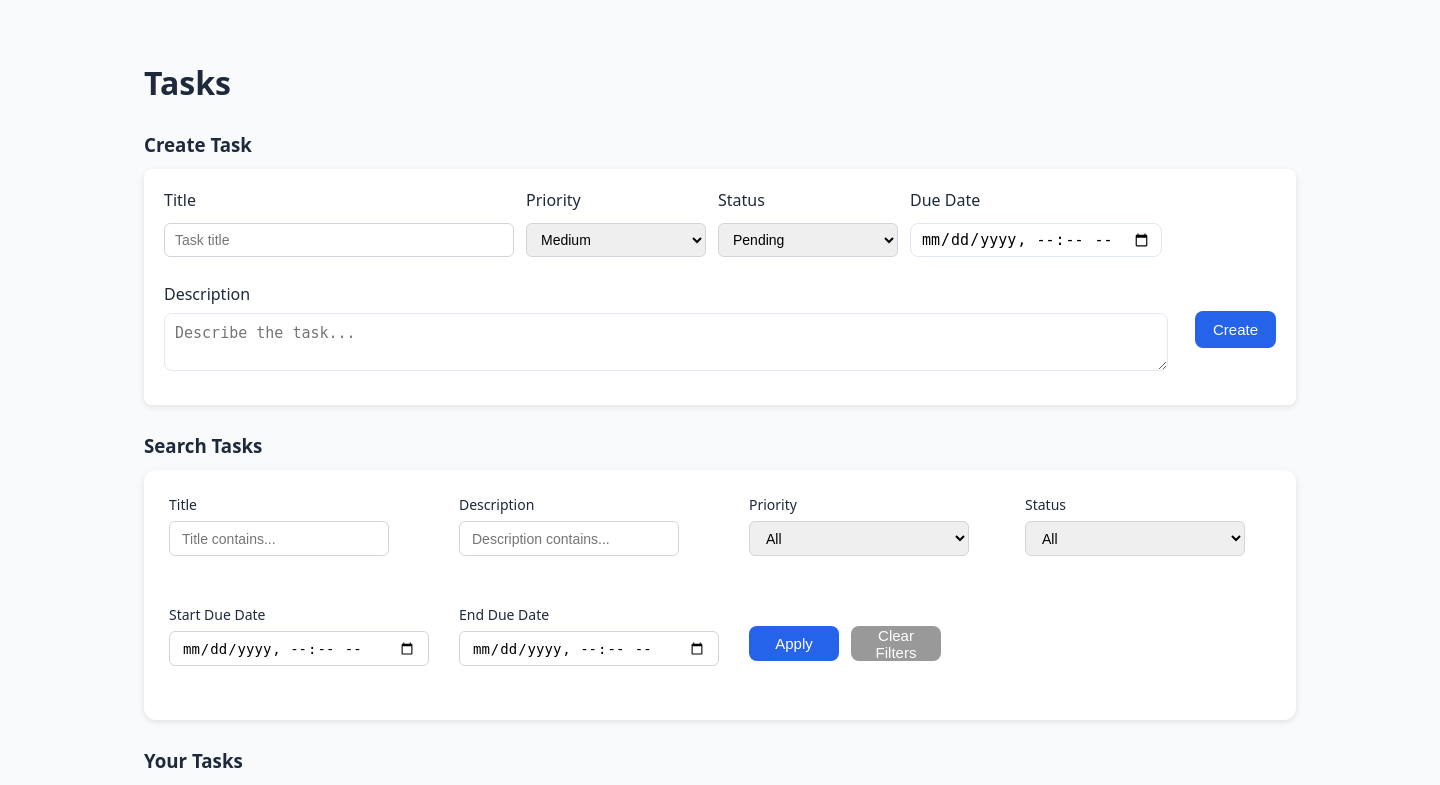
Scenario: shows validation error for empty title
Step 1. Click the button "Create" → (1236, 330), box [1195,311,1276,348]
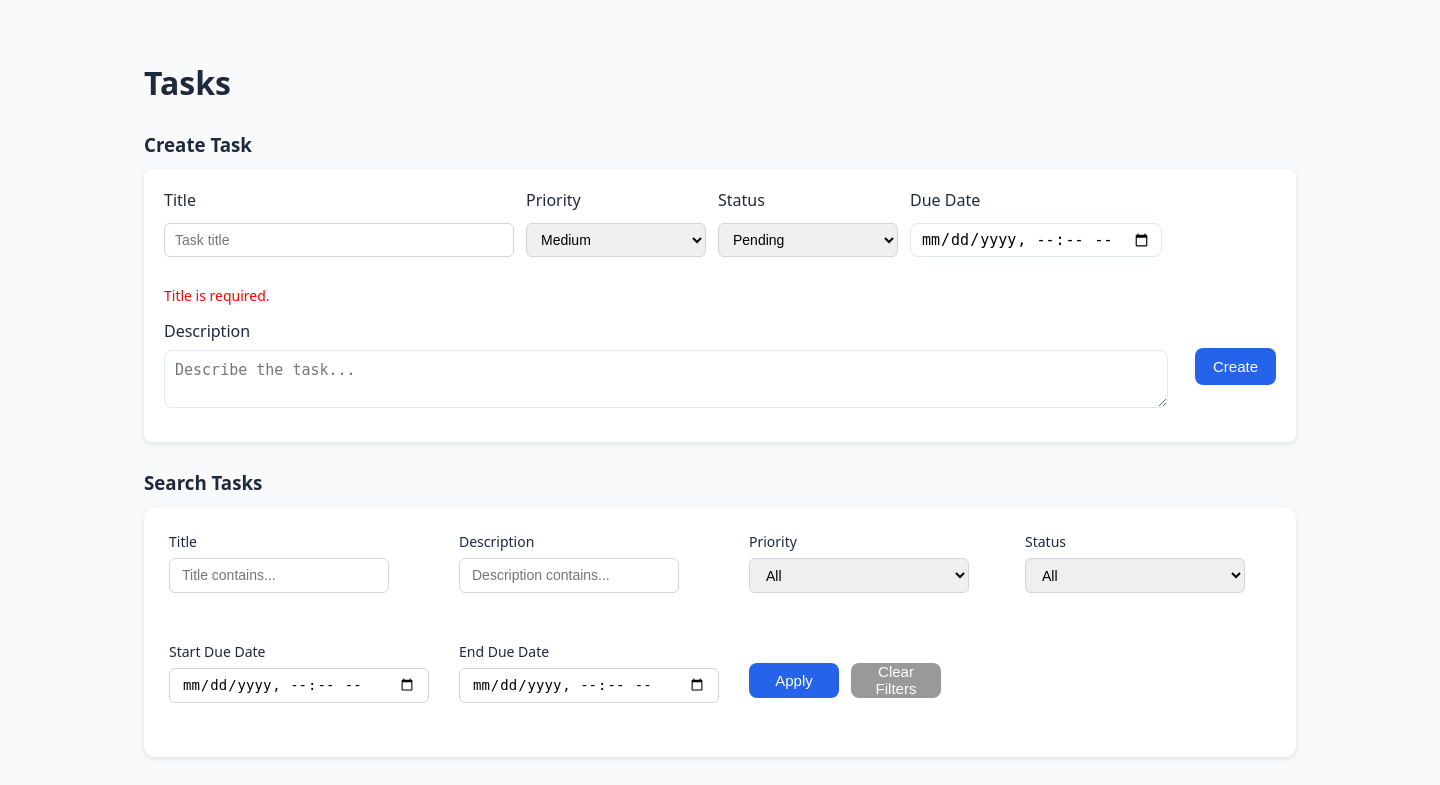
Expected: the text "Title is required." is shown, [164,286,270,305]
